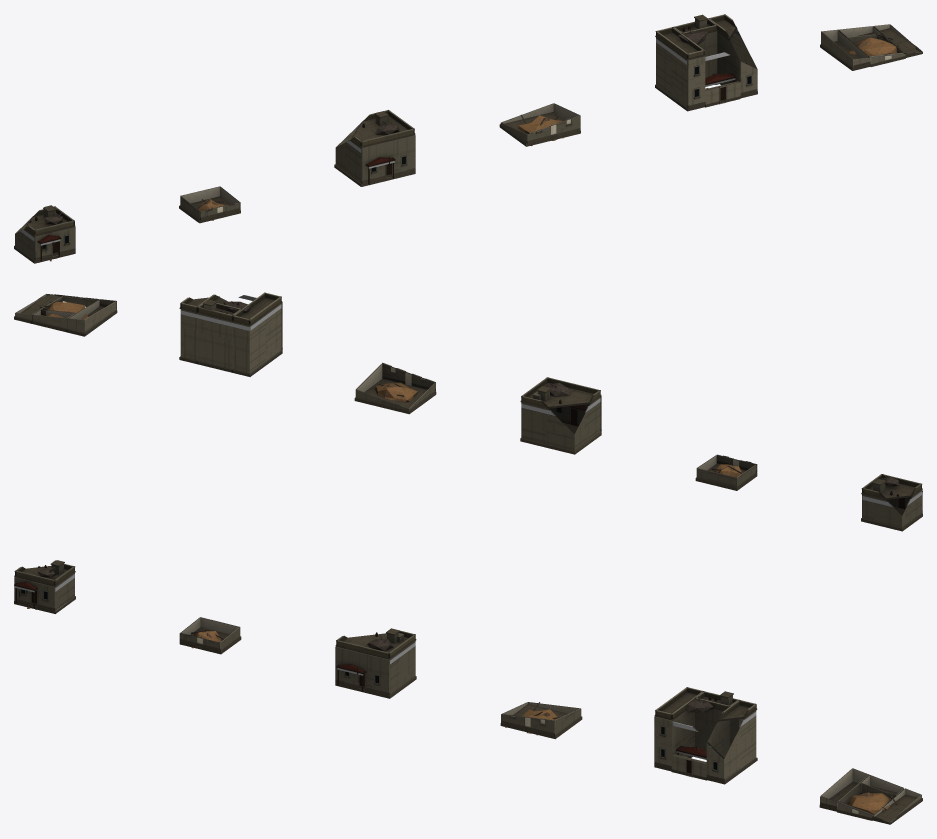
Rendered from gunpowder-steppe-houses-damage.glb.
The picture shows the model from 3 angles, top to bottom: view 1: azimuth 30°, elevation 25°; view 2: azimuth 150°, elevation 25°; view 3: azimuth 330°, elevation 25°; orthographic projection.
Parts seen in each view (by area): view 1: LOD0.004, LOD0.002, LOD0.005, LOD0, LOD0.003, LOD0.001; view 2: LOD0.004, LOD0.002, LOD0.005, LOD0, LOD0.003, LOD0.001; view 3: LOD0.004, LOD0.002, LOD0.005, LOD0, LOD0.003, LOD0.001.
Part boxes in pixels (x1,y1,x2,y2): LOD0.004: (655,14,757,111); LOD0.002: (334,110,415,186); LOD0.005: (820,24,922,70); LOD0: (14,205,75,263); LOD0.003: (499,103,580,146); LOD0.001: (179,186,240,223); LOD0.004: (179,292,282,376); LOD0.002: (520,377,601,454); LOD0.005: (14,294,117,336); LOD0: (861,474,922,531); LOD0.003: (354,362,436,414); LOD0.001: (695,454,757,490); LOD0.004: (654,687,757,784); LOD0.002: (335,628,416,698); LOD0.005: (819,768,922,824); LOD0: (14,560,75,613); LOD0.003: (500,702,582,739); LOD0.001: (179,617,241,654).
Size of what is drawn, in the model's own units: 16.02 by 1.08 by 1.05.
2 materials, 2 textured.
